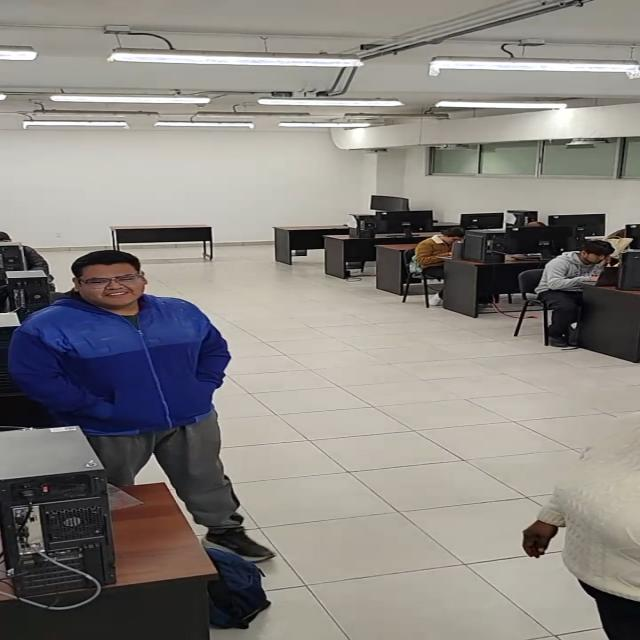Persona: (0, 247, 281, 564)
